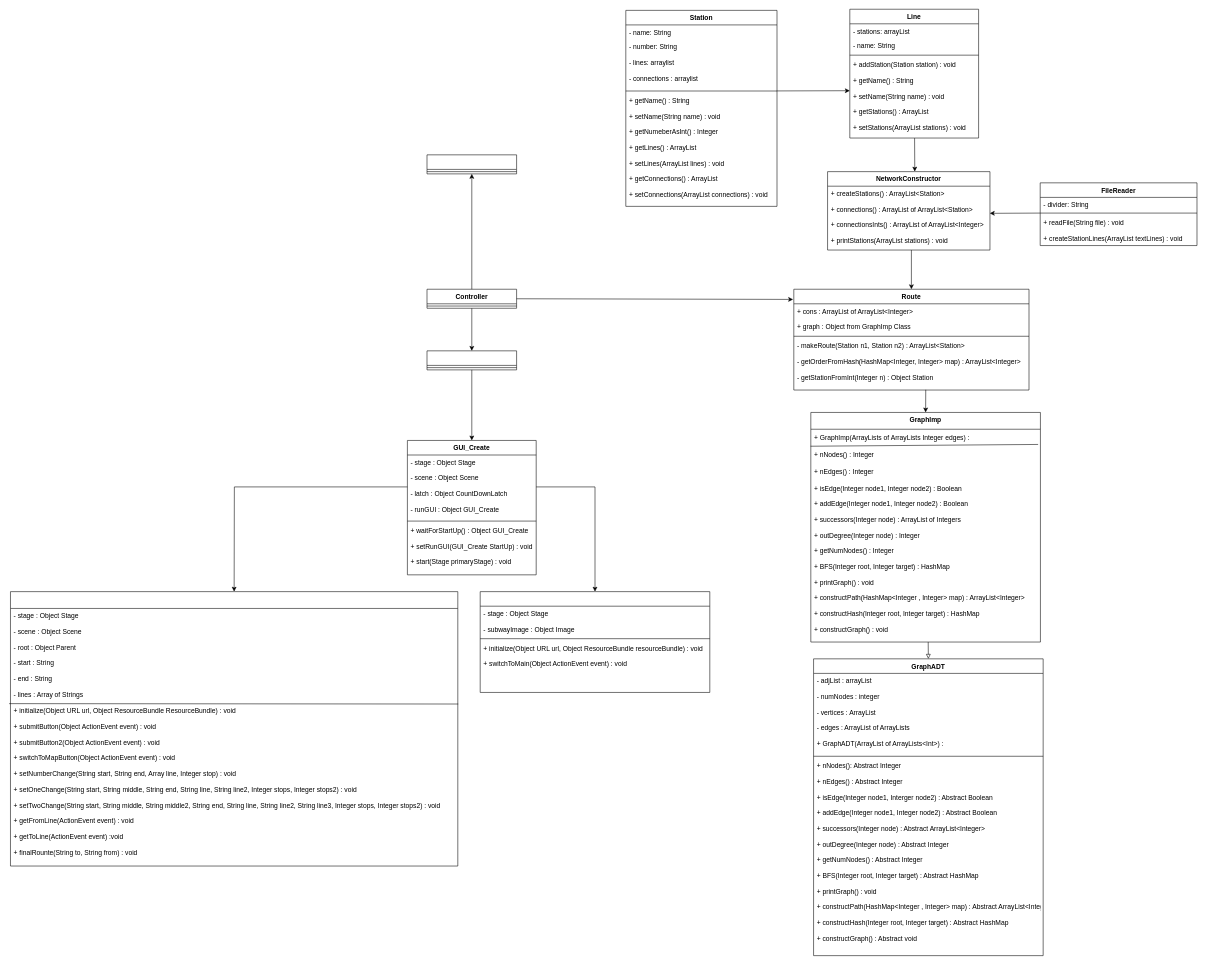
This 1206x965 diagram has some shape labels left out. The box of each missing label's shape, as (x1, y1, x2, y2) in pixels:
Driver: (426, 154, 517, 174)
GUI: (426, 350, 517, 370)
GUI_EventListener: (10, 591, 458, 866)
MapScene: (480, 591, 710, 692)
